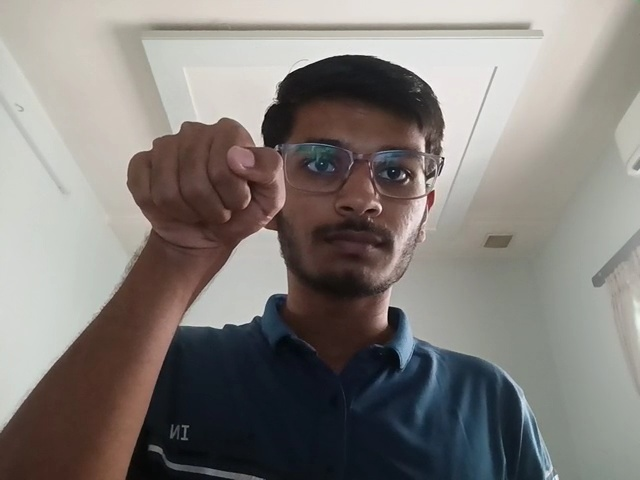Yes: (119, 113, 302, 256)
